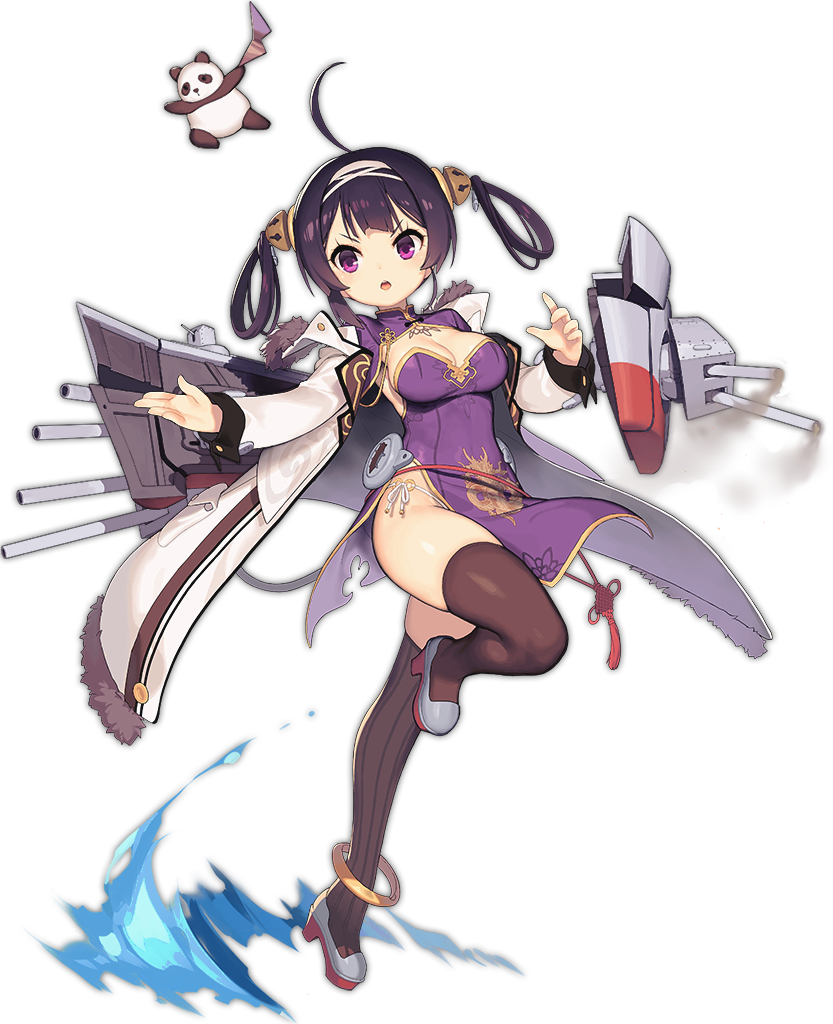person: (169, 143, 606, 871)
